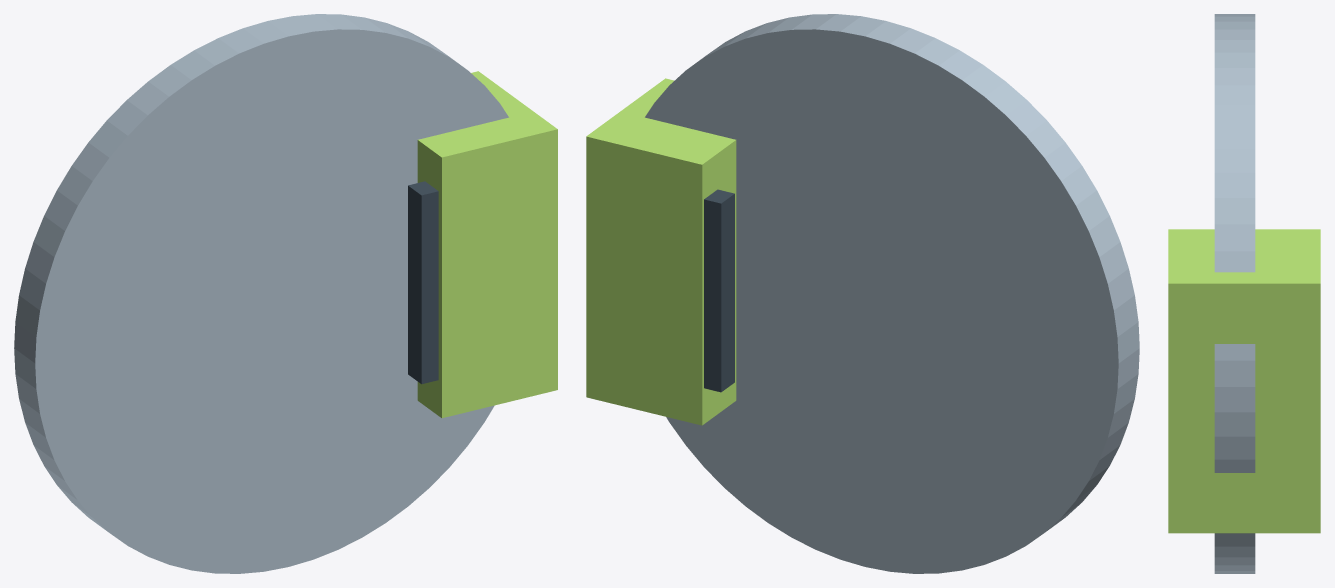
Rendered from concept.glb.
3 renders of one model, left to right at view 1: azimuth 30°, elevation 25°; view 2: azimuth 150°, elevation 25°; view 3: azimuth 270°, elevation 25°, orthographic. The views are drawn at different scales.
Parts seen in each view (by area): view 1: rotor, caliper, pad_inner; view 2: rotor, caliper, pad_outer; view 3: caliper, rotor.
Part boxes in pixels (bbox=[...]): rotor: bbox=[14, 14, 508, 573]; caliper: bbox=[417, 71, 557, 418]; pad_inner: bbox=[408, 181, 438, 384]; rotor: bbox=[645, 14, 1139, 573]; caliper: bbox=[586, 78, 736, 425]; pad_outer: bbox=[704, 189, 734, 392]; caliper: bbox=[1168, 229, 1320, 533]; rotor: bbox=[1214, 14, 1255, 573].
Bounding box in the file's own units: 2.36 × 2.36 × 0.64.
